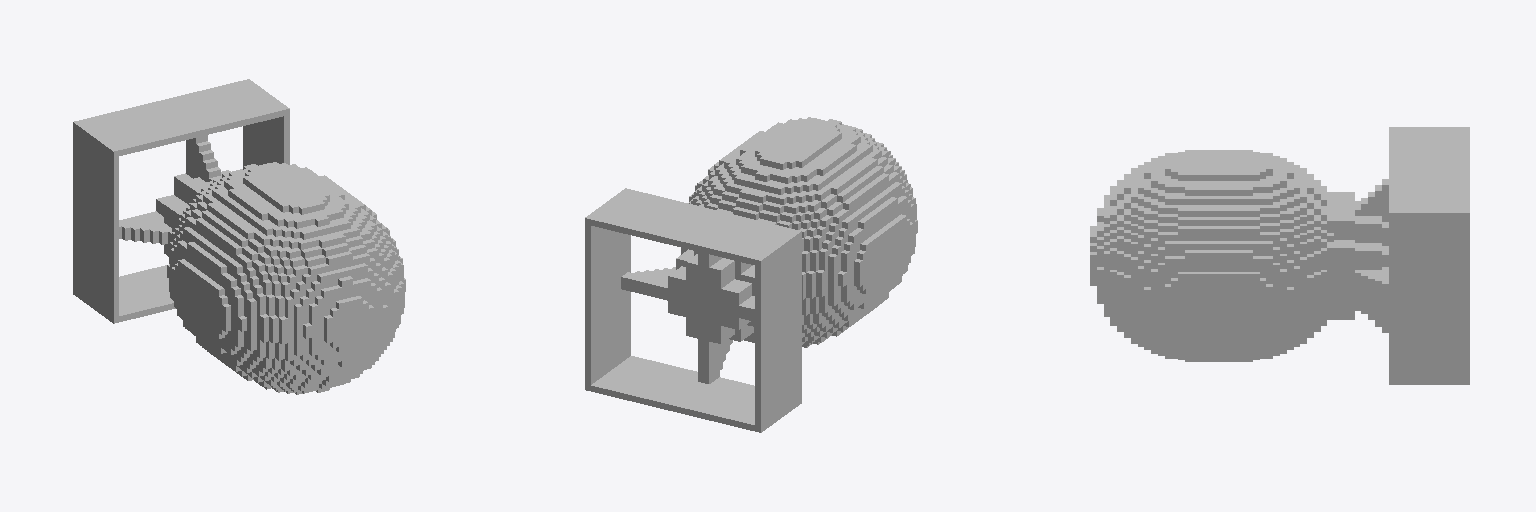
The model's file is Nuclear Bomb.obj.
3 views of the same model, side by side, from view 1: azimuth 30°, elevation 25°; view 2: azimuth 150°, elevation 25°; view 3: azimuth 270°, elevation 25° (orthographic).
Visible parts, largest first — view 1: Nuclear Bomb; view 2: Nuclear Bomb; view 3: Nuclear Bomb.
Boxes of the visible parts, <box> form: Nuclear Bomb: <box>73,79,405,394</box>; Nuclear Bomb: <box>585,117,917,432</box>; Nuclear Bomb: <box>1090,127,1469,384</box>.
Bounding box in the file's own units: 30 × 30 × 56.